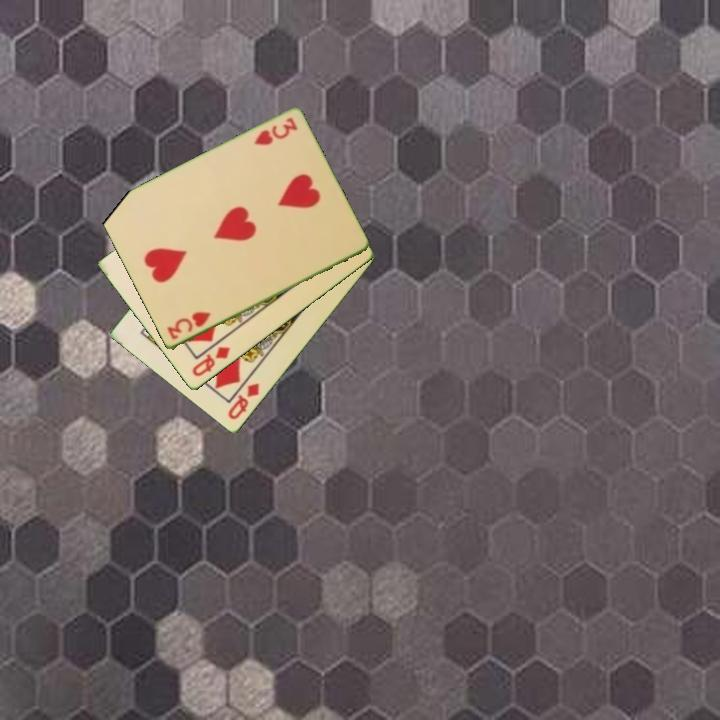3h: (163, 308, 214, 343), (250, 114, 300, 149)
Qd: (188, 343, 233, 380), (224, 380, 262, 423)
